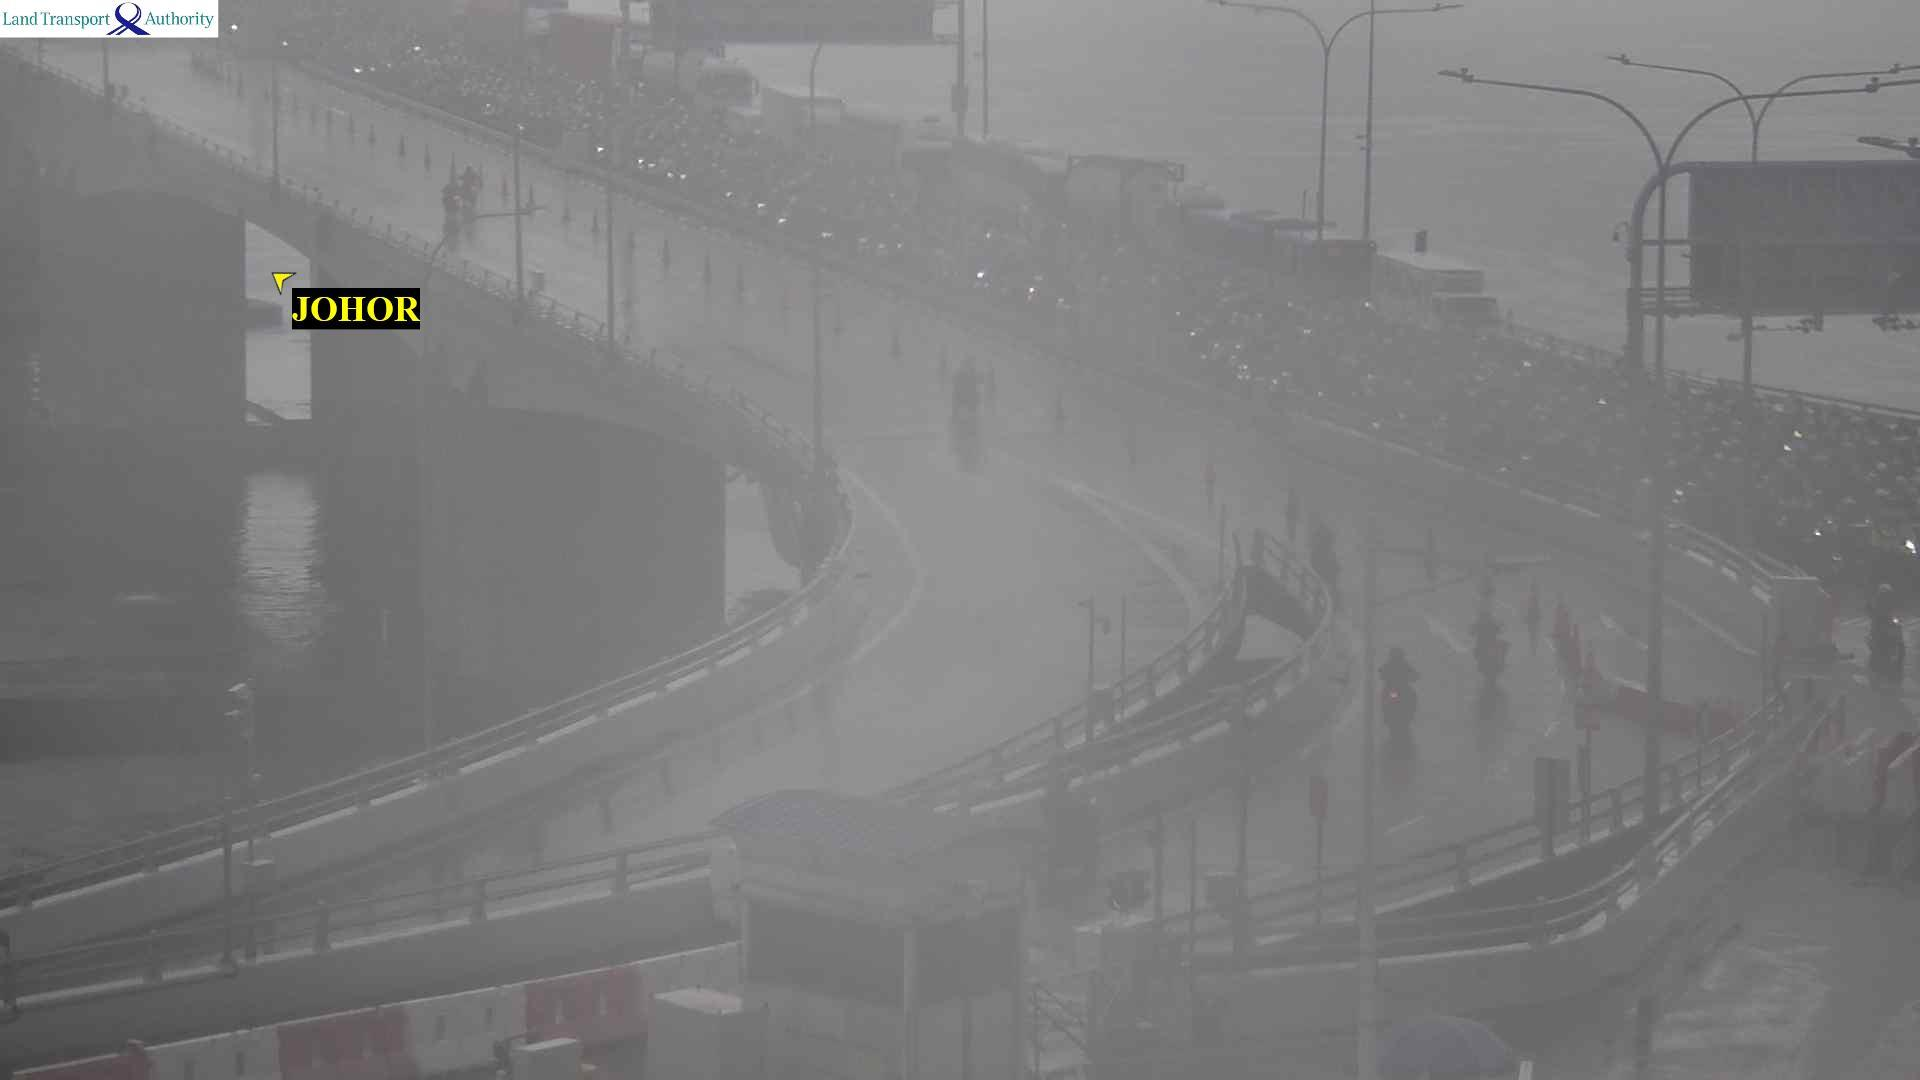vehicle-secondlink-johor: (1378, 645, 1418, 742), (1472, 611, 1509, 690), (955, 353, 978, 422), (461, 169, 481, 203), (442, 182, 458, 211)
vehicle-secondlink-singapore: (1066, 155, 1181, 240), (1373, 256, 1503, 328), (760, 85, 845, 157)
